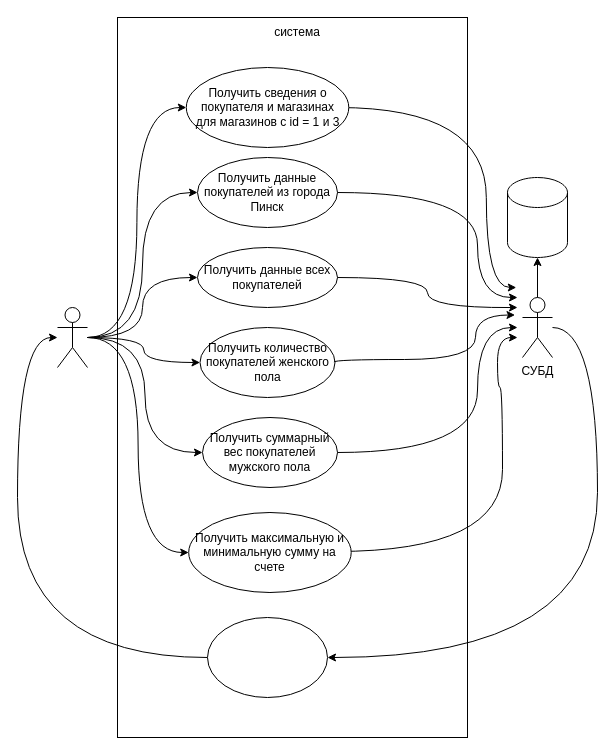
Image size: 615x755. Some labels were removed from this diagram. Here are the shapes that lost their labels. From the top down, the centre of each, then its label:
the point at 537,217: база данных
the point at 72,337: тестировщик
the point at 267,657: Отправить полученные данные
